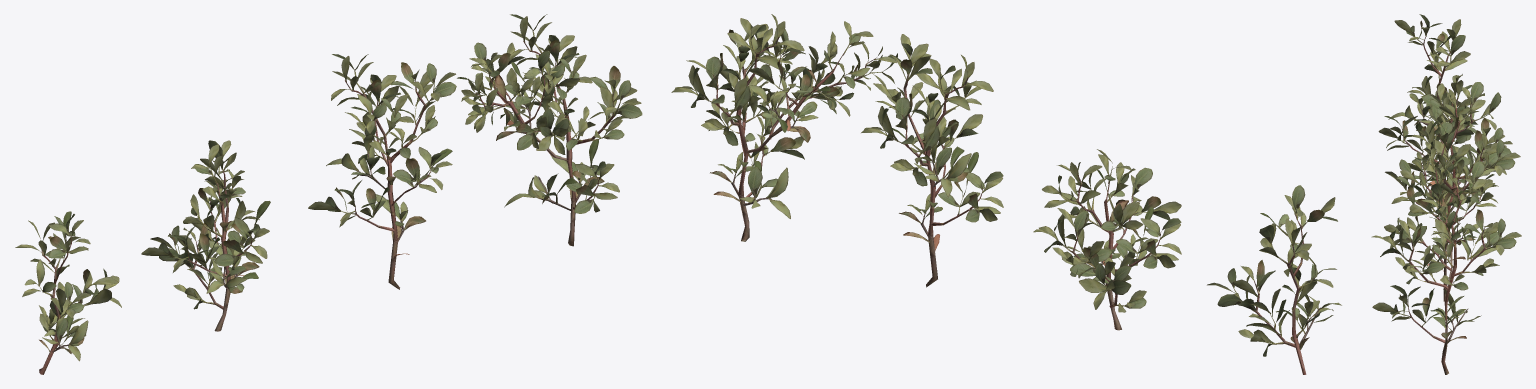
File: shrub_04.glb
3 views of the same model, side by side, from view 1: azimuth 30°, elevation 25°; view 2: azimuth 150°, elevation 25°; view 3: azimuth 270°, elevation 25° (orthographic). The views are drawn at different scales.
Parts seen in each view (by area): view 1: shrub_04; view 2: shrub_04; view 3: shrub_04.
Part boxes in pixels (left/top/right/bottom): shrub_04: left=15, top=14, right=642, bottom=374; shrub_04: left=671, top=14, right=1341, bottom=374; shrub_04: left=1371, top=14, right=1521, bottom=374.
Bounding box in the file's own units: 0.5833 × 0.2185 × 0.146.
1 material, 1 textured.
